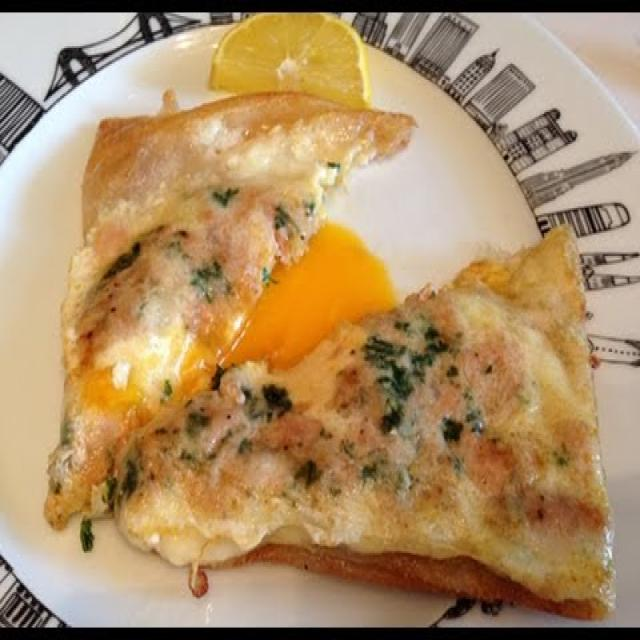brik: (152, 208, 620, 614), (40, 71, 417, 512)
